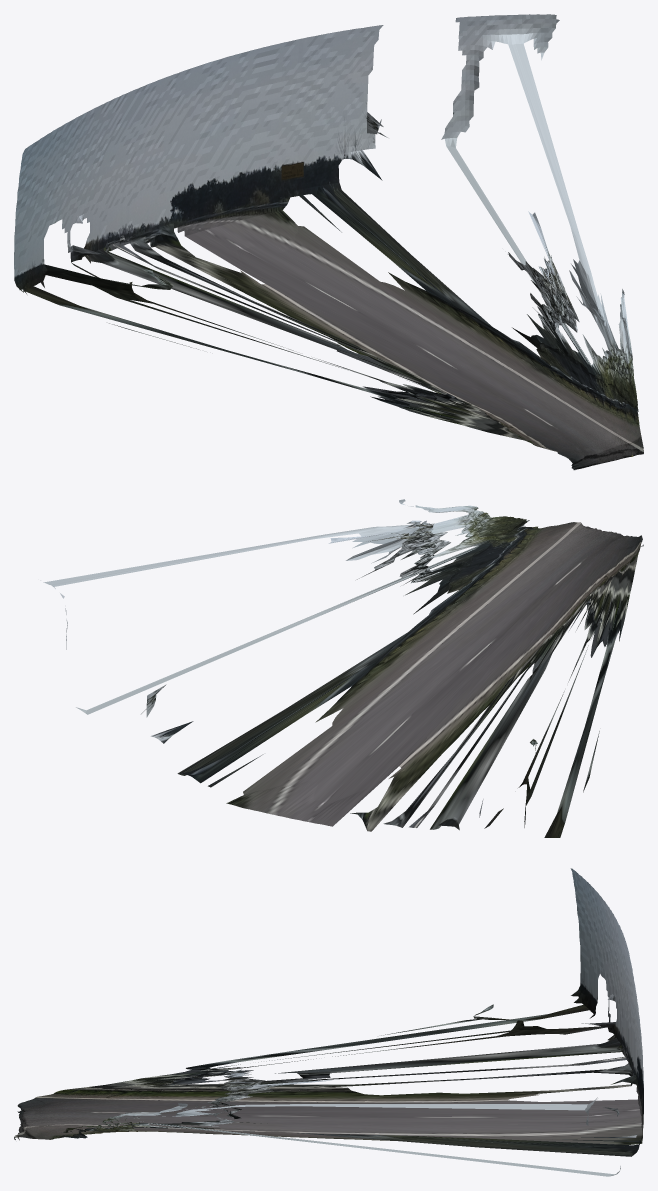
The picture shows the model from 3 angles, top to bottom: view 1: azimuth 30°, elevation 25°; view 2: azimuth 150°, elevation 25°; view 3: azimuth 270°, elevation 25°; orthographic projection. The views are drawn at different scales.
Visible parts, largest first — view 1: defaultobject; view 2: defaultobject; view 3: defaultobject.
Boxes of the visible parts, x1,y1,x2,y2 form: defaultobject: (14, 14, 643, 470); defaultobject: (40, 499, 643, 837); defaultobject: (14, 868, 643, 1176).
Bounding box in the file's own units: 39.75 × 12.34 × 44.43.
Materials: 1 (1 with a texture image).
